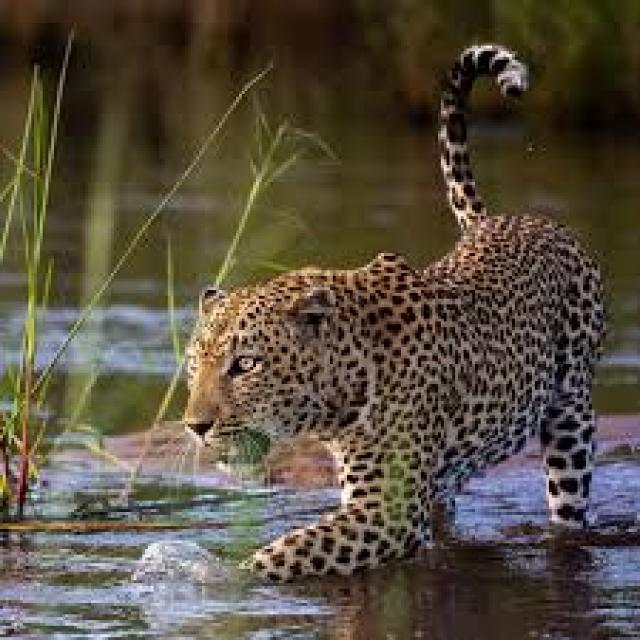Jaguar: (179, 208, 603, 543)
